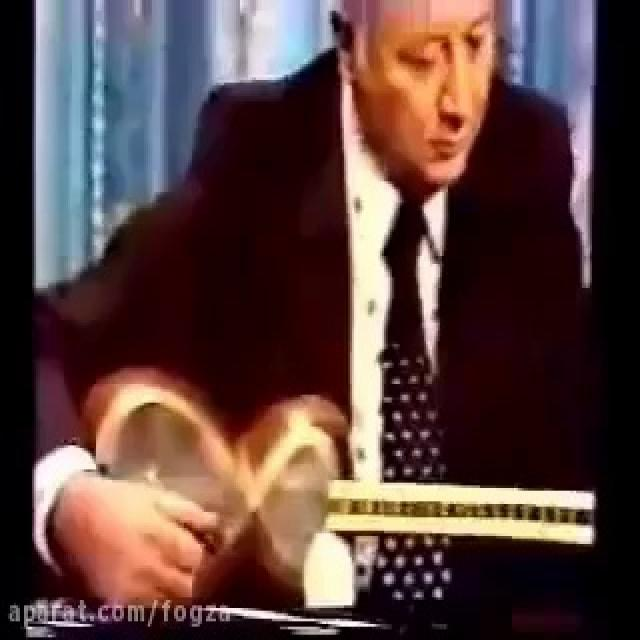Setar: (67, 372, 601, 606)
